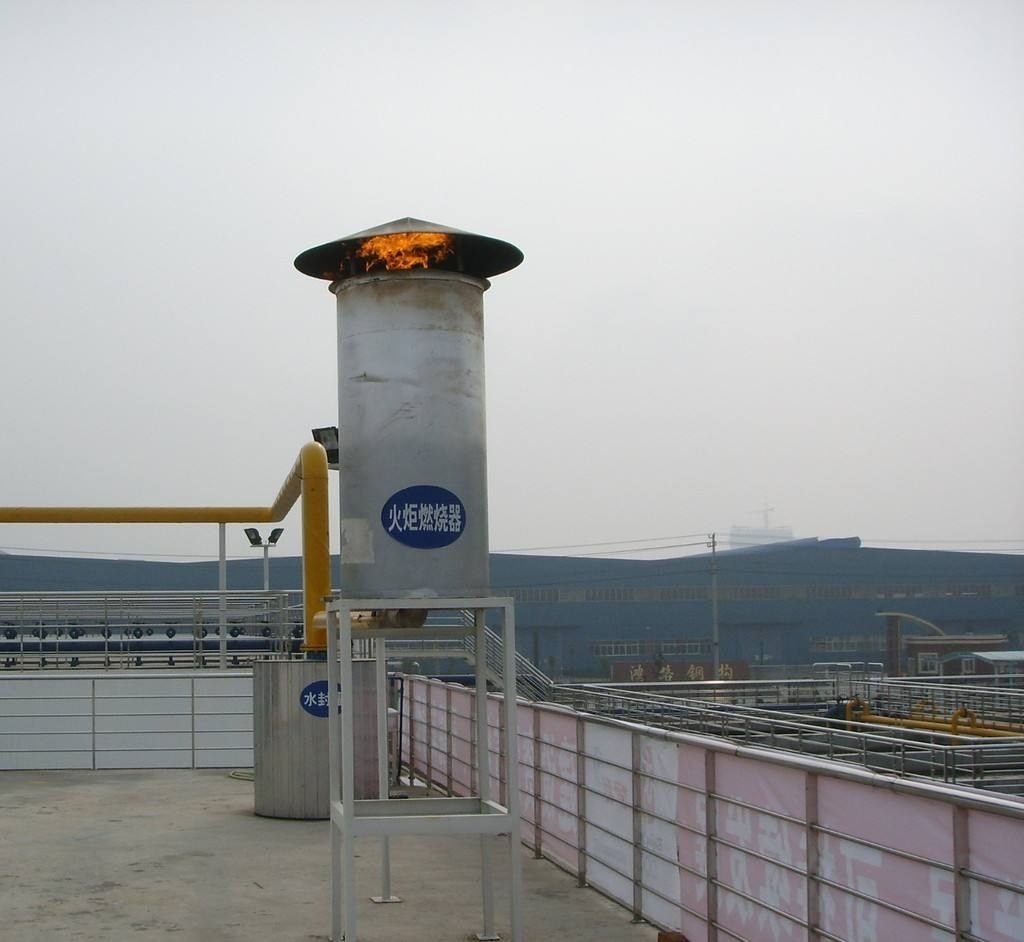fire: (354, 223, 449, 272)
